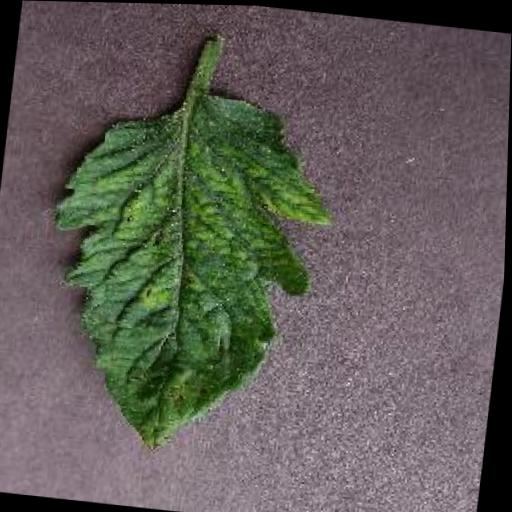Mosaic Virus: (30, 73, 344, 463)
